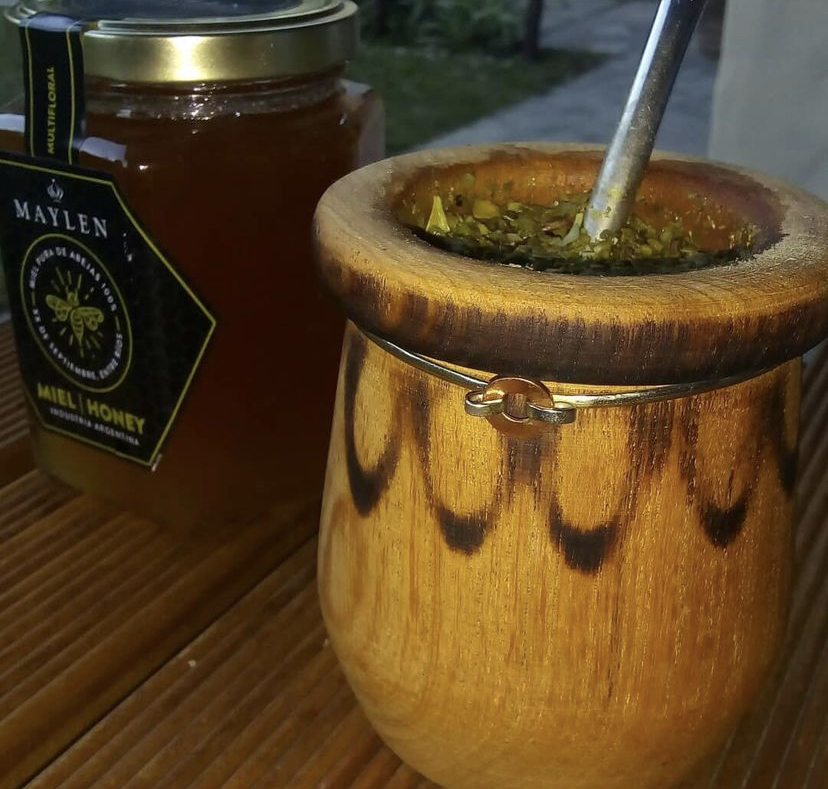madera: (316, 129, 828, 777)
mate: (303, 1, 828, 778)
